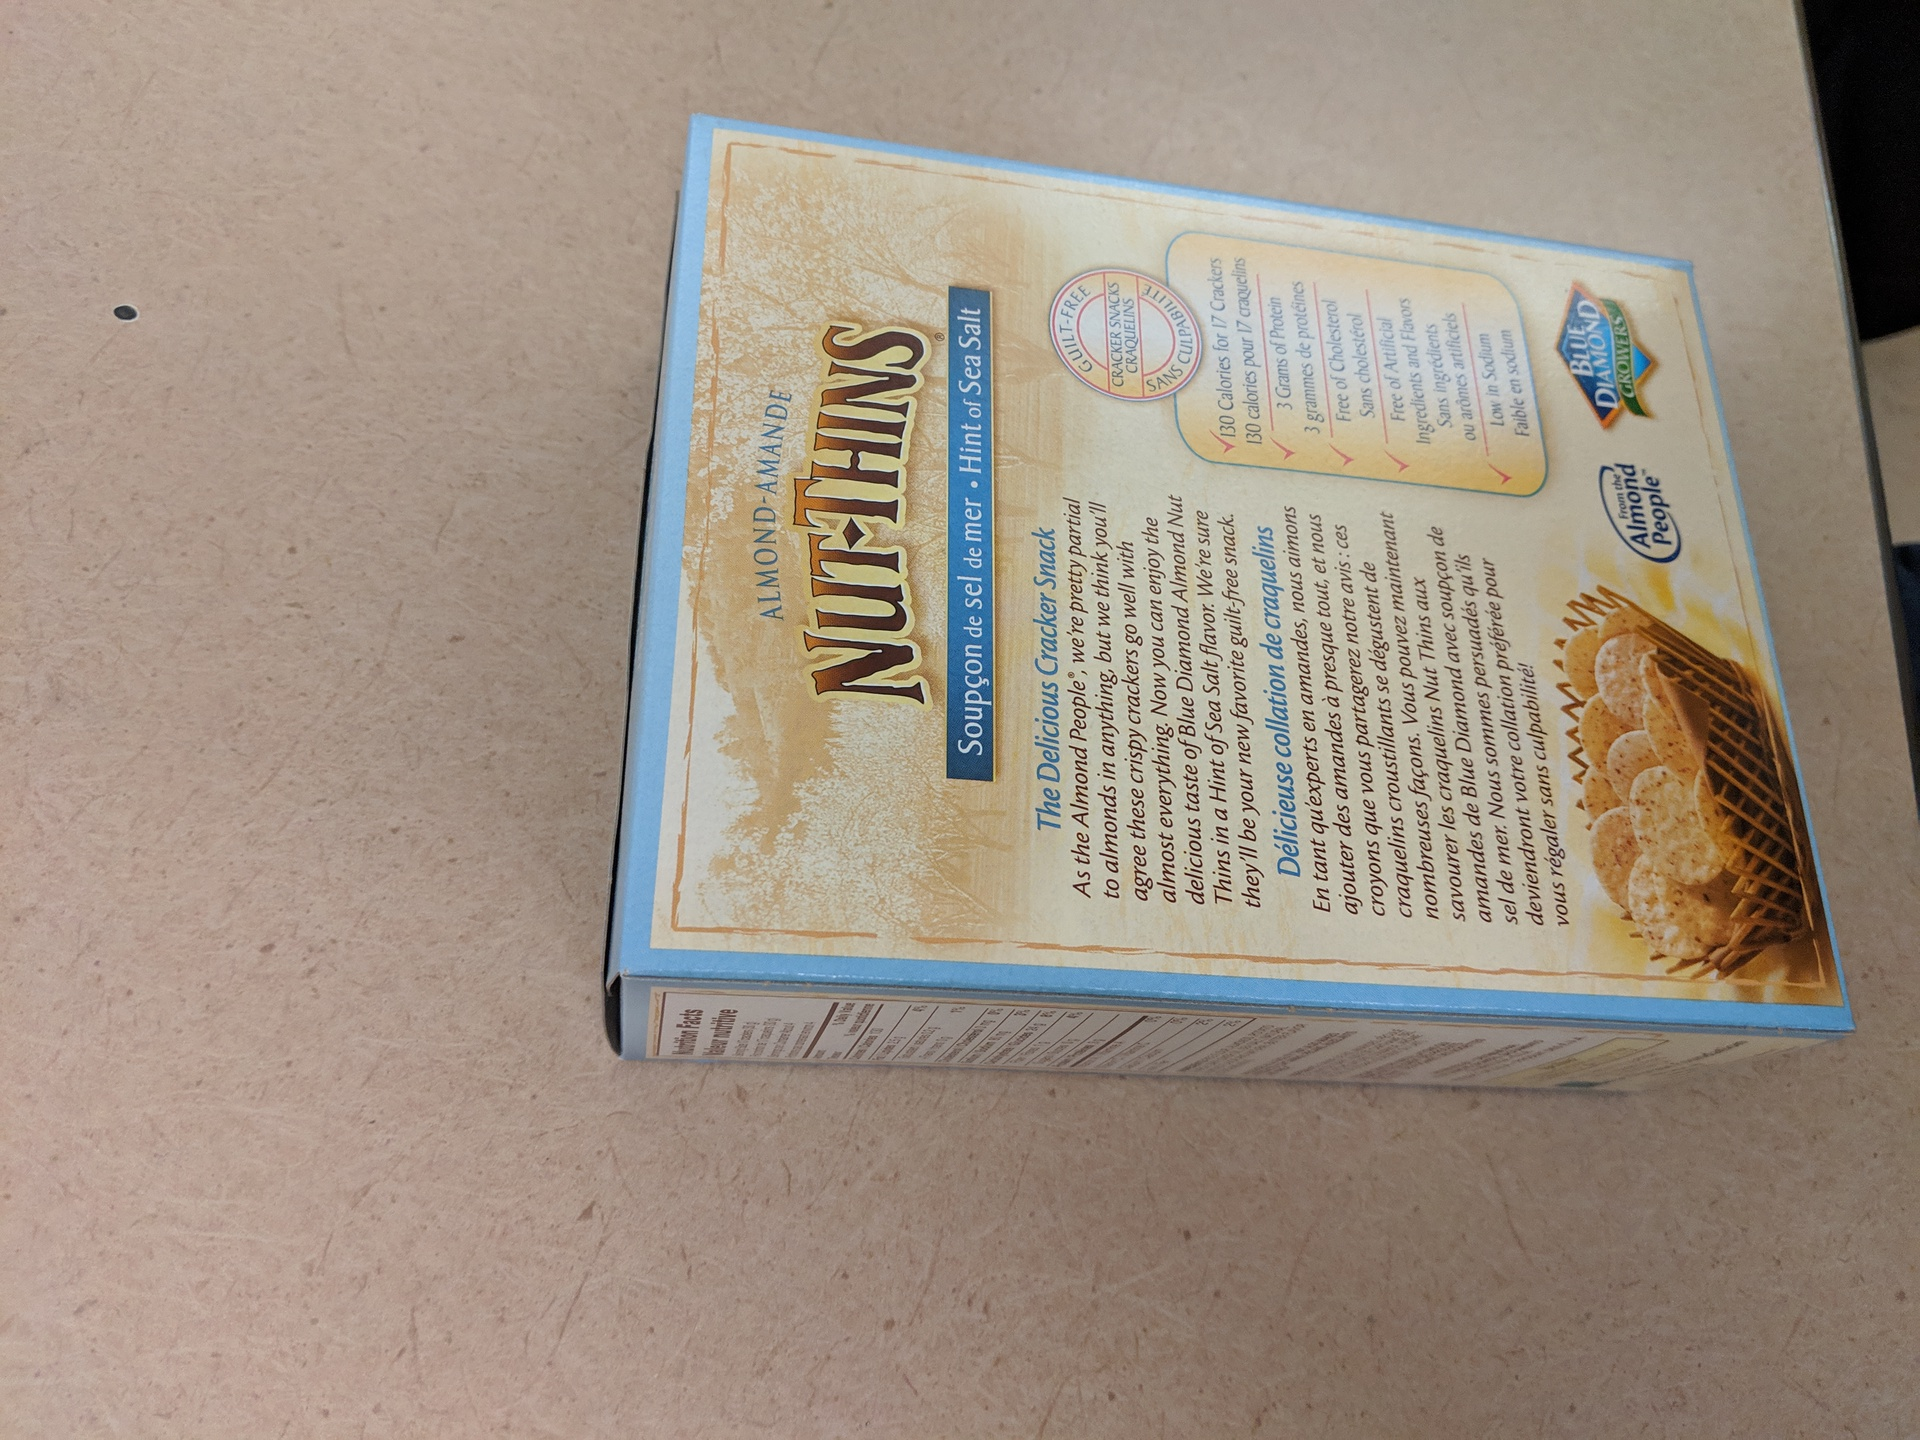blue_diamond_nut_thins_almond_seasalt: (584, 154, 1822, 1110)
